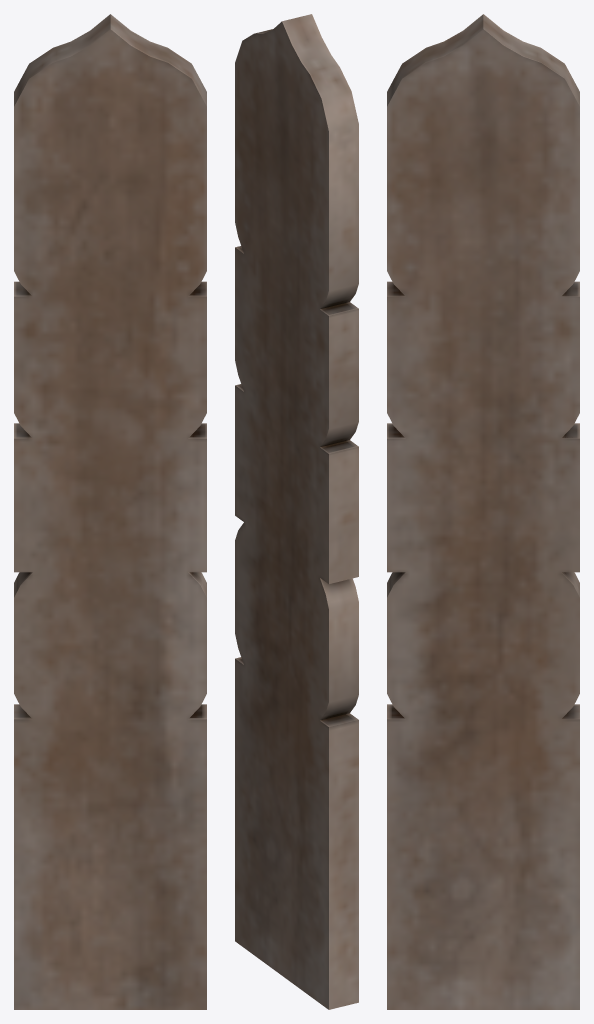
Rendered from JT_Gy_Prp_Sotōba_A_02.fbx.
3 renders of one model, left to right at view 1: azimuth 90°, elevation 25°; view 2: azimuth 210°, elevation 25°; view 3: azimuth 270°, elevation 25°, orthographic. The views are drawn at different scales.
Visible parts, largest first — view 1: JT_Gy_Prp_Sotōba_A_02, JT_Gy_Prp_Sotōba_A_02_LOD0; view 2: JT_Gy_Prp_Sotōba_A_02, JT_Gy_Prp_Sotōba_A_02_LOD0; view 3: JT_Gy_Prp_Sotōba_A_02, JT_Gy_Prp_Sotōba_A_02_LOD0.
Part boxes in pixels (box(x1,y1,x2,y2)): JT_Gy_Prp_Sotōba_A_02: box(14, 14, 206, 1009); JT_Gy_Prp_Sotōba_A_02_LOD0: box(14, 14, 206, 1009); JT_Gy_Prp_Sotōba_A_02: box(235, 21, 358, 1009); JT_Gy_Prp_Sotōba_A_02_LOD0: box(235, 14, 358, 1009); JT_Gy_Prp_Sotōba_A_02: box(387, 14, 579, 1009); JT_Gy_Prp_Sotōba_A_02_LOD0: box(387, 14, 579, 1009).
Size of what is drawn, in the model's own units: 0.0247 by 0.7495 by 0.1335.
